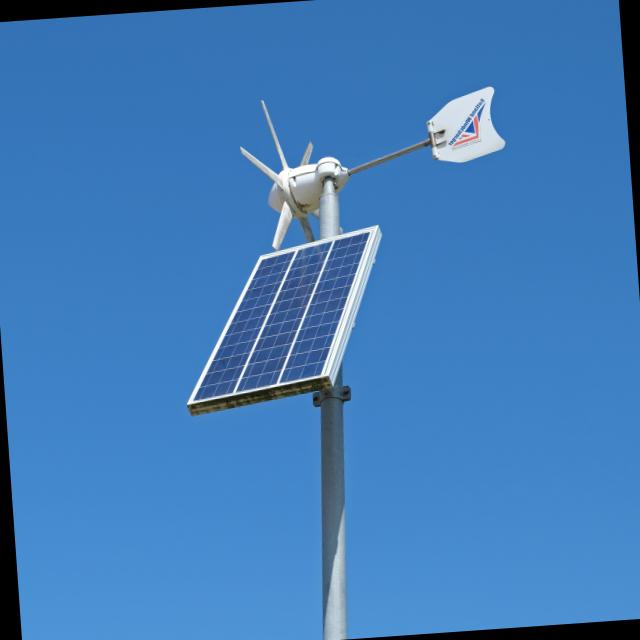no faulty: (191, 233, 370, 402)
